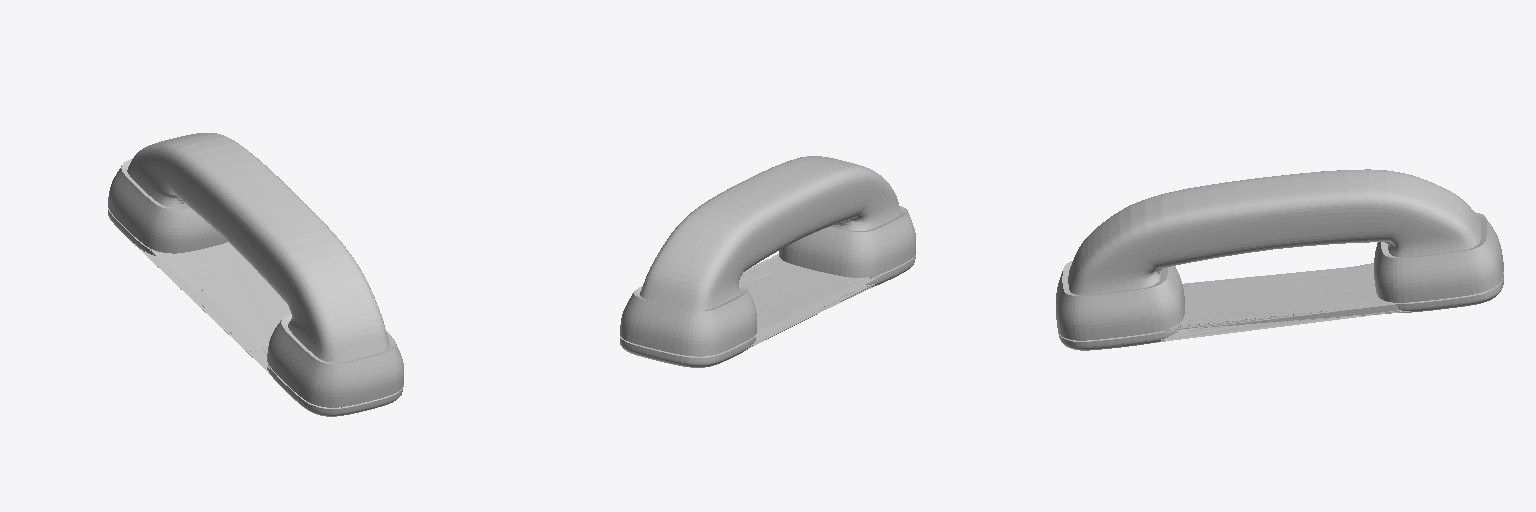
Rendered from officePhone_grey.obj.
3 renders of one model, left to right at view 1: azimuth 30°, elevation 25°; view 2: azimuth 150°, elevation 25°; view 3: azimuth 270°, elevation 25°, orthographic.
Parts seen in each view (by area): view 1: handSet, Box01; view 2: handSet, Box01; view 3: handSet, Box01.
Part boxes in pixels (x1,y1,x2,y2): handSet: (108, 133, 403, 416); Box01: (134, 242, 363, 407); handSet: (620, 156, 915, 367); Box01: (680, 254, 902, 355); handSet: (1056, 169, 1503, 350); Box01: (1087, 263, 1410, 343).
Size of the model in its own units: 25.23 by 36.77 by 98.07.